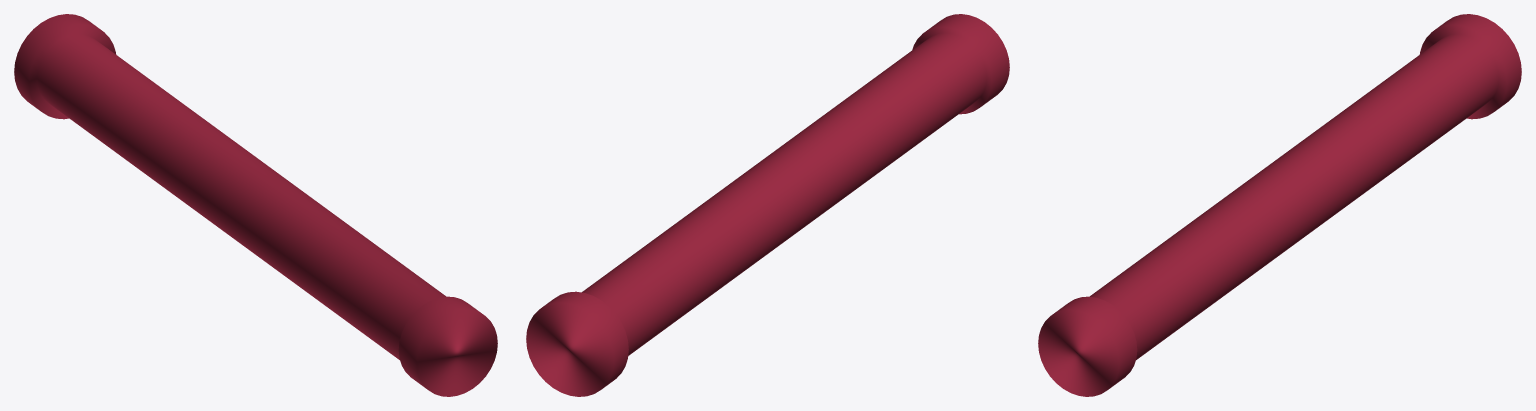
Rendered from GrappleBar.fbx.
3 views of the same model, side by side, from view 1: azimuth 30°, elevation 25°; view 2: azimuth 150°, elevation 25°; view 3: azimuth 330°, elevation 25° (orthographic).
Parts seen in each view (by area): view 1: Cylinder; view 2: Cylinder; view 3: Cylinder.
Boxes of the visible parts, box(x1,y1,x2,y2) form: Cylinder: box(14, 14, 497, 396); Cylinder: box(526, 14, 1009, 396); Cylinder: box(1038, 14, 1521, 396).
Size of the model in its own units: 257 by 257 by 2019.
